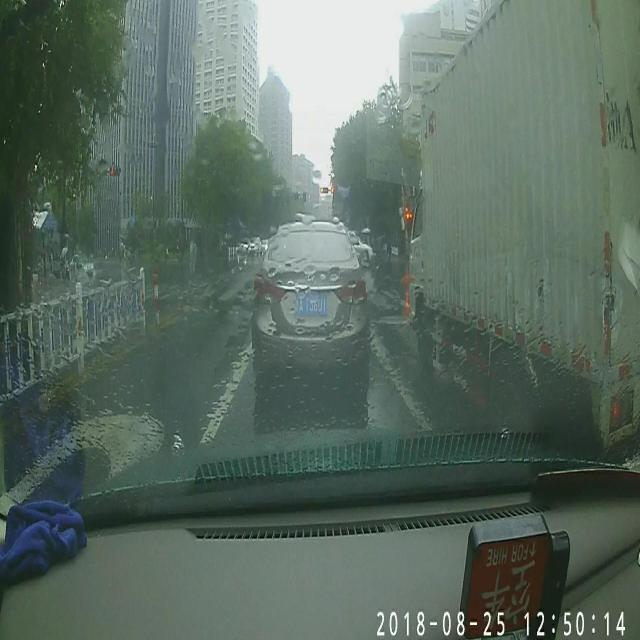car: (248, 218, 369, 370)
